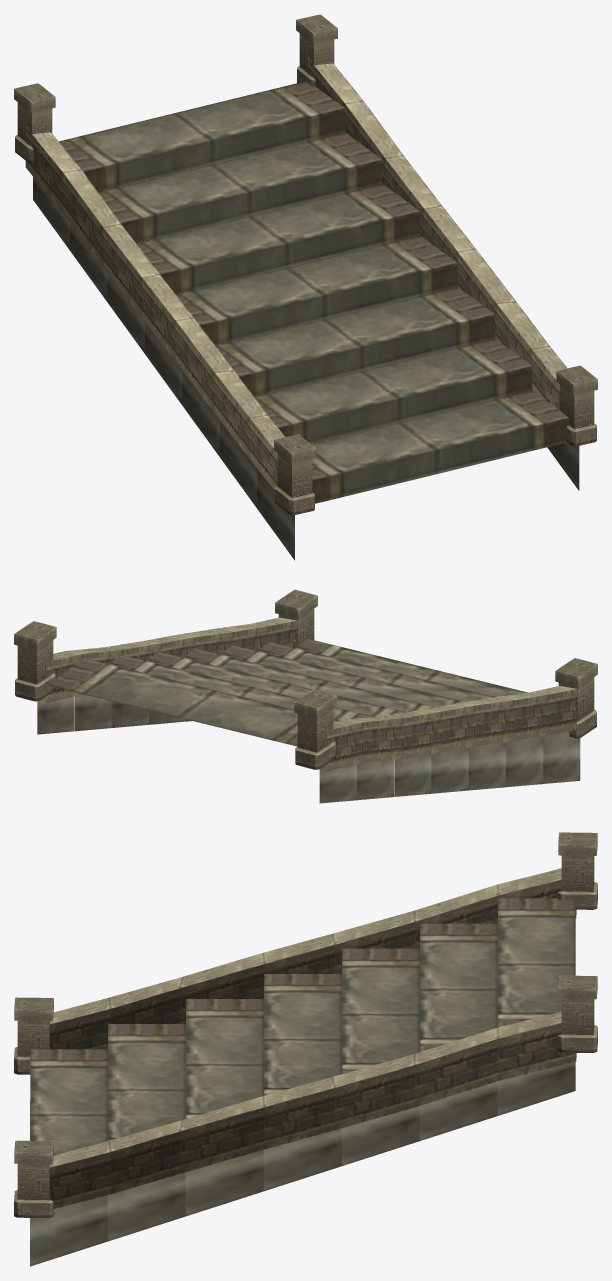
The model's file is B_qiao.fbx.
3 views of the same model, one above another, from view 1: azimuth 30°, elevation 25°; view 2: azimuth 150°, elevation 25°; view 3: azimuth 270°, elevation 25° (orthographic). The views are drawn at different scales.
Parts seen in each view (by area): view 1: B_qiao; view 2: B_qiao; view 3: B_qiao.
Part boxes in pixels (<box>): B_qiao: <box>14,14,597,560</box>; B_qiao: <box>14,589,597,803</box>; B_qiao: <box>14,832,597,1266</box>.
Size of the model in its own units: 1182 by 1001 by 1858.
